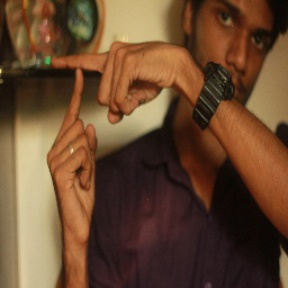T: (43, 42, 123, 154)
